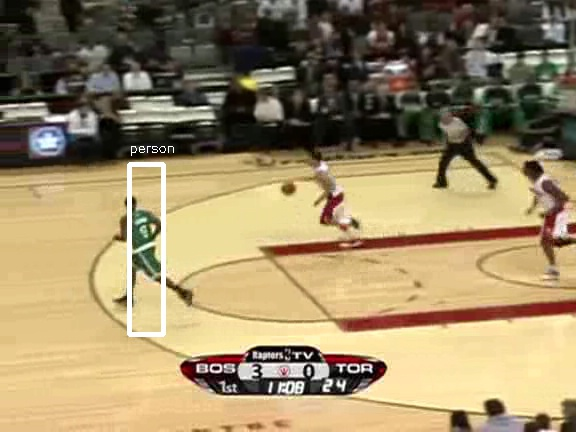person: (127, 205, 161, 286), (126, 205, 160, 286), (128, 205, 162, 286), (127, 204, 161, 285), (127, 206, 161, 287)
target_negative: (142, 42, 160, 421), (509, 184, 556, 309), (37, 409, 336, 425), (558, 13, 570, 407), (152, 99, 255, 115)
